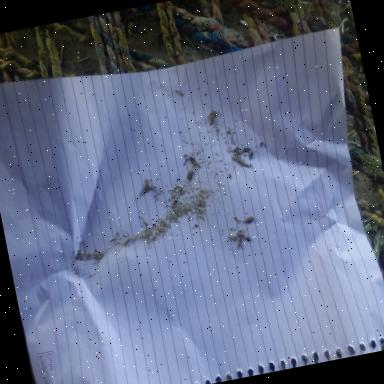pbw: (186, 168, 195, 182), (122, 236, 132, 246), (190, 155, 198, 166), (176, 88, 184, 98), (244, 234, 252, 242), (229, 234, 238, 241), (237, 238, 243, 248)
